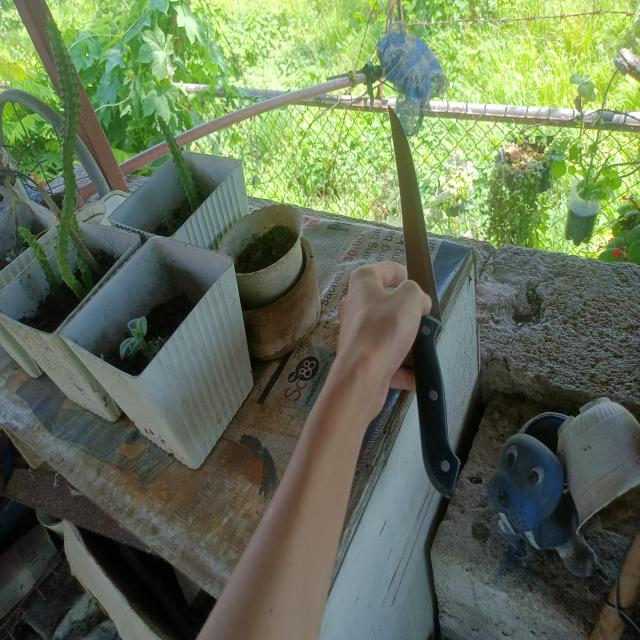knife: (388, 105, 461, 494)
